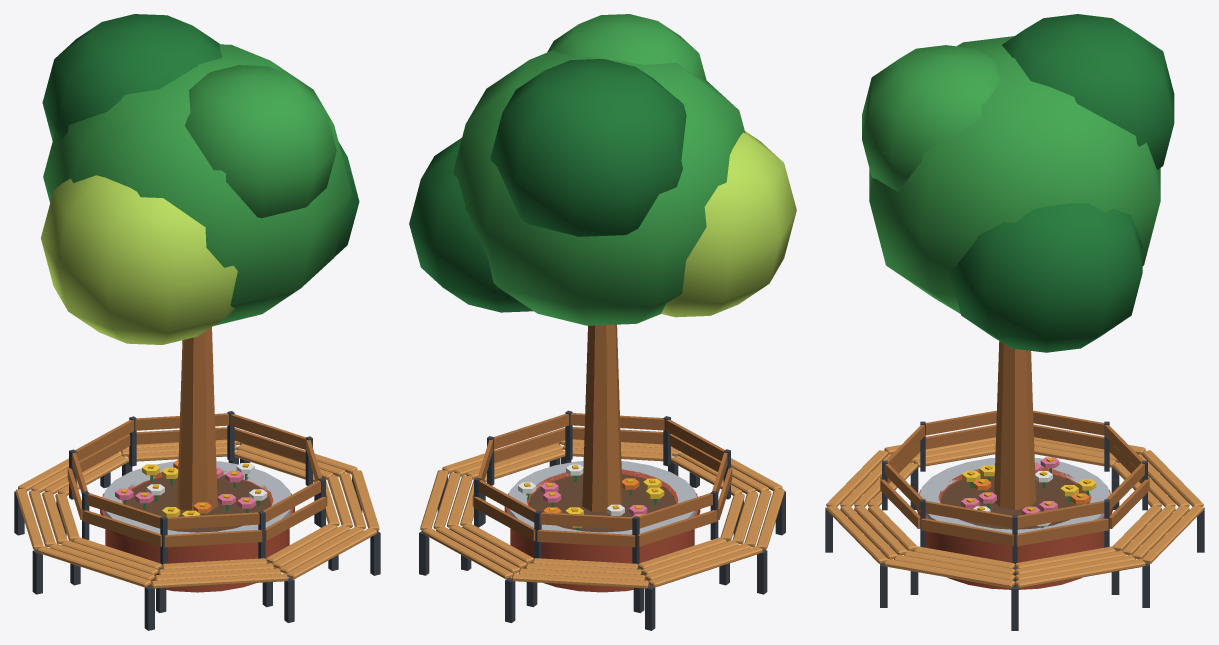
File: banco_circular_arvore.glb
3 renders of one model, left to right at view 1: azimuth 30°, elevation 25°; view 2: azimuth 150°, elevation 25°; view 3: azimuth 270°, elevation 25°, orthographic.
Visible parts, largest first — view 1: banco_circular_arvore; view 2: banco_circular_arvore; view 3: banco_circular_arvore.
Boxes of the visible parts, <box> form: banco_circular_arvore: <box>14,14,380,630</box>; banco_circular_arvore: <box>409,14,796,630</box>; banco_circular_arvore: <box>825,14,1204,630</box>.
Bounding box in the file's own units: 3.47 × 5.17 × 3.47.
Materials: 1 (1 with a texture image).
